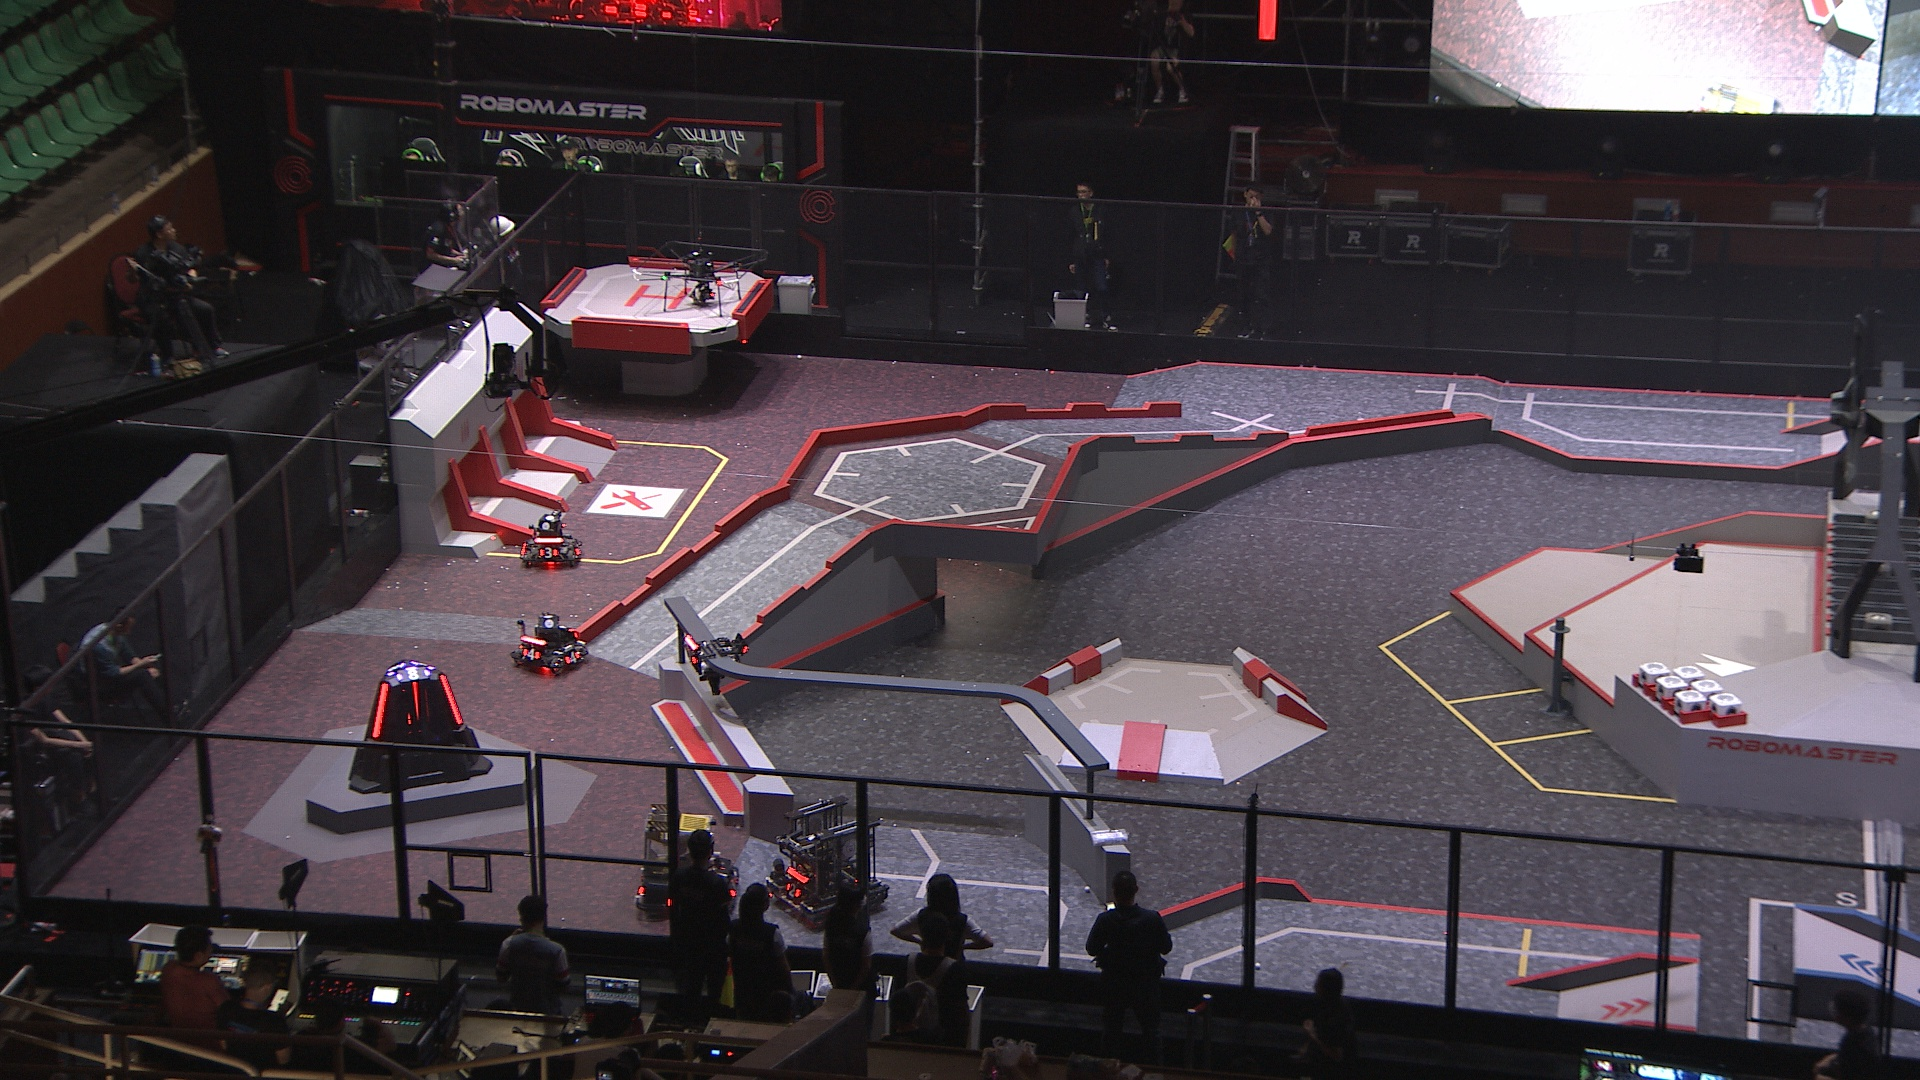armor: (436, 673, 465, 731), (371, 680, 392, 741), (407, 678, 422, 723), (680, 641, 702, 669), (560, 647, 583, 666), (785, 880, 804, 899), (520, 644, 542, 661), (535, 545, 560, 559), (571, 541, 584, 560)
base: (343, 654, 493, 796)
car: (764, 793, 893, 922), (632, 803, 741, 920), (508, 611, 593, 676), (517, 510, 588, 571)
ignore: (392, 665, 429, 683), (385, 659, 401, 679), (415, 661, 436, 671)
watcher: (676, 629, 752, 698)
